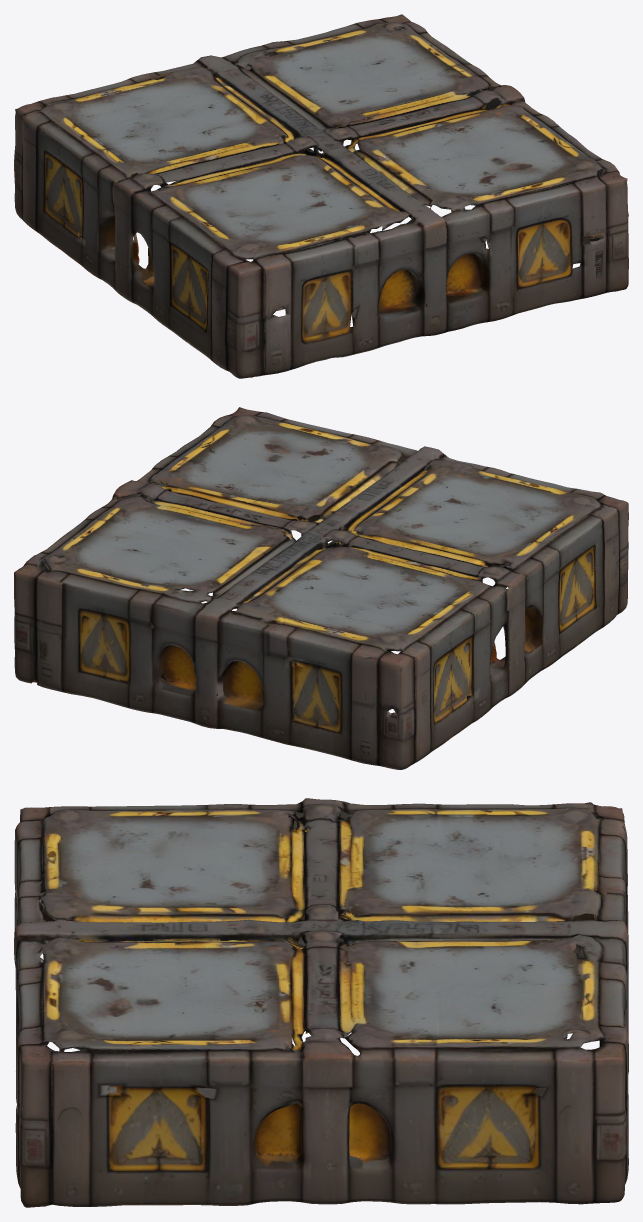
Rendered from UpgradeAreaGround_2.fbx.
The picture shows the model from 3 angles, top to bottom: view 1: azimuth 30°, elevation 25°; view 2: azimuth 150°, elevation 25°; view 3: azimuth 270°, elevation 25°; orthographic projection. The views are drawn at different scales.
Visible parts, largest first — view 1: tripo_node_b3d47abb; view 2: tripo_node_b3d47abb; view 3: tripo_node_b3d47abb.
Boxes of the visible parts, <box> form: tripo_node_b3d47abb: <box>14,14,628,378</box>; tripo_node_b3d47abb: <box>14,407,628,769</box>; tripo_node_b3d47abb: <box>14,798,628,1207</box>.
Size of the model in its own units: 99.42 by 29.16 by 99.96.
Materials: 1 (1 with a texture image).
